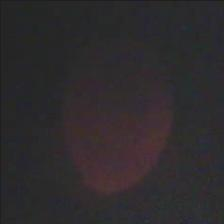fertile: (58, 30, 172, 196)
